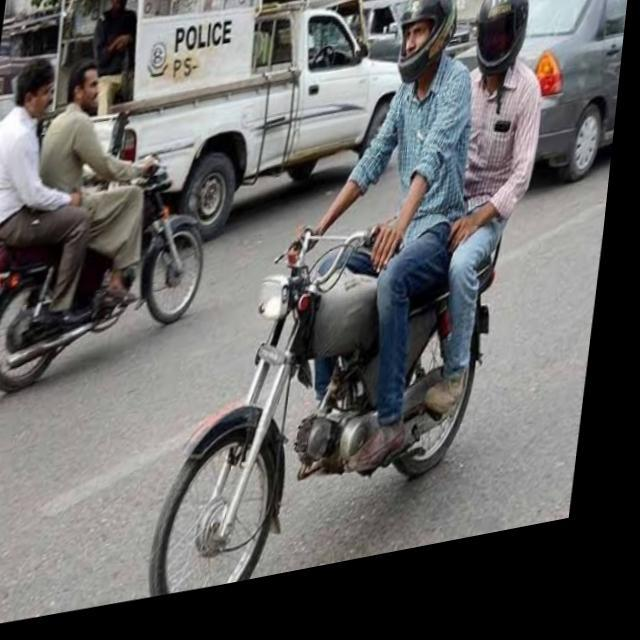Helmet: (386, 0, 458, 87), (471, 0, 534, 79)
Nonhelmet: (13, 52, 61, 115), (65, 56, 107, 122)
